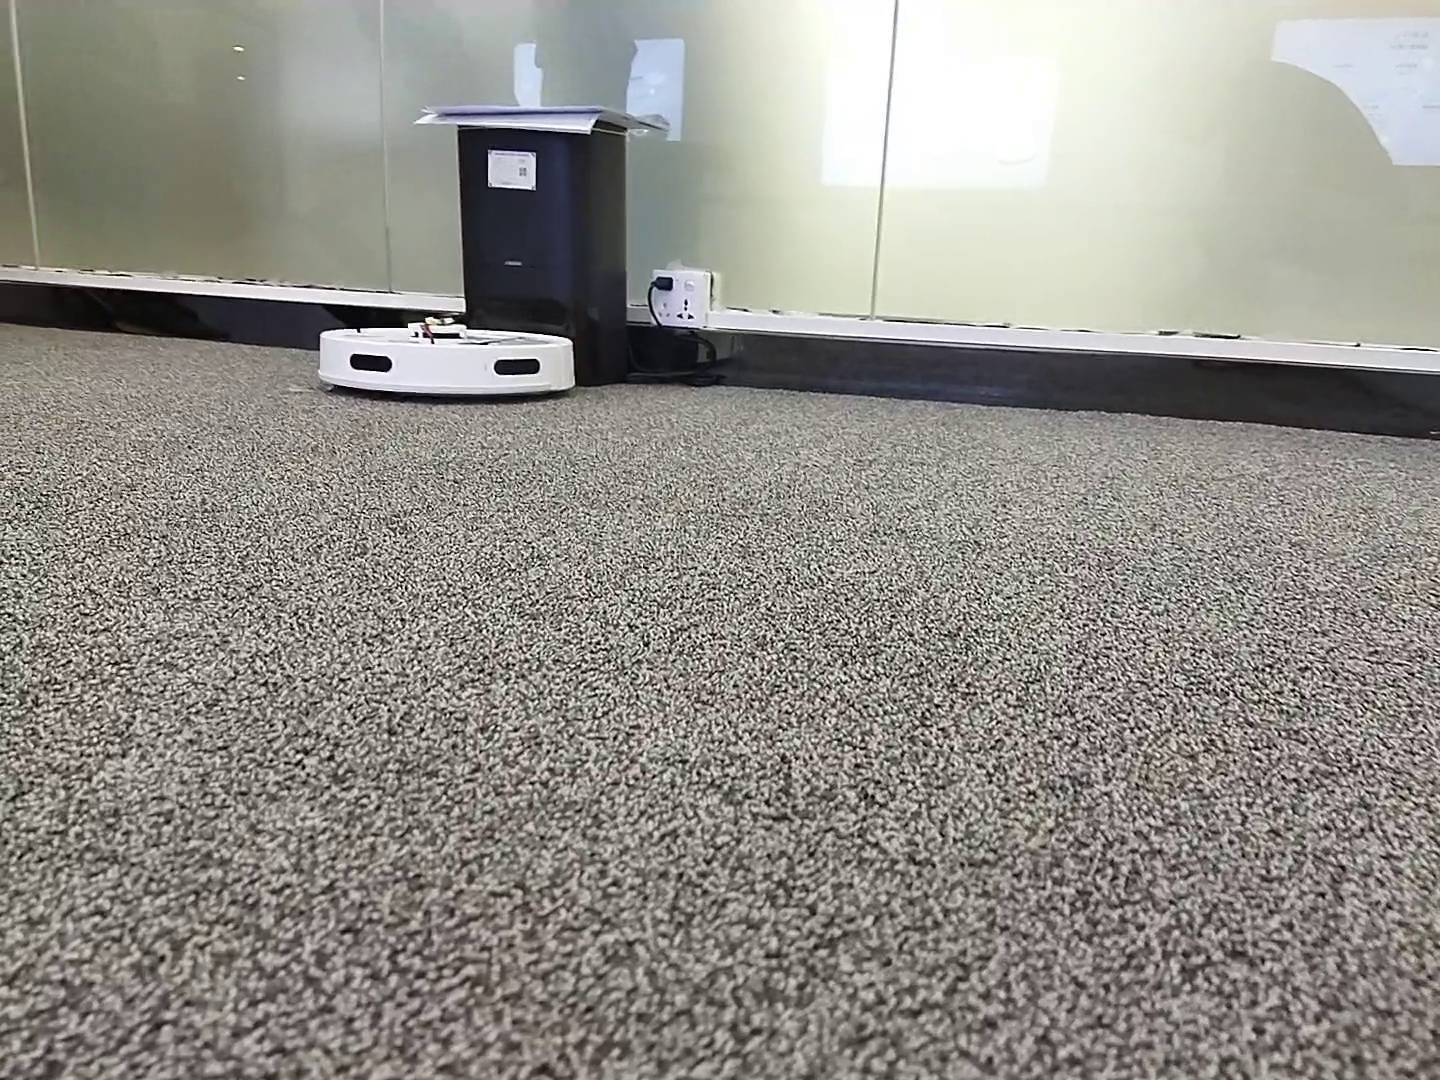dust collecting barrel: (456, 121, 633, 386)
